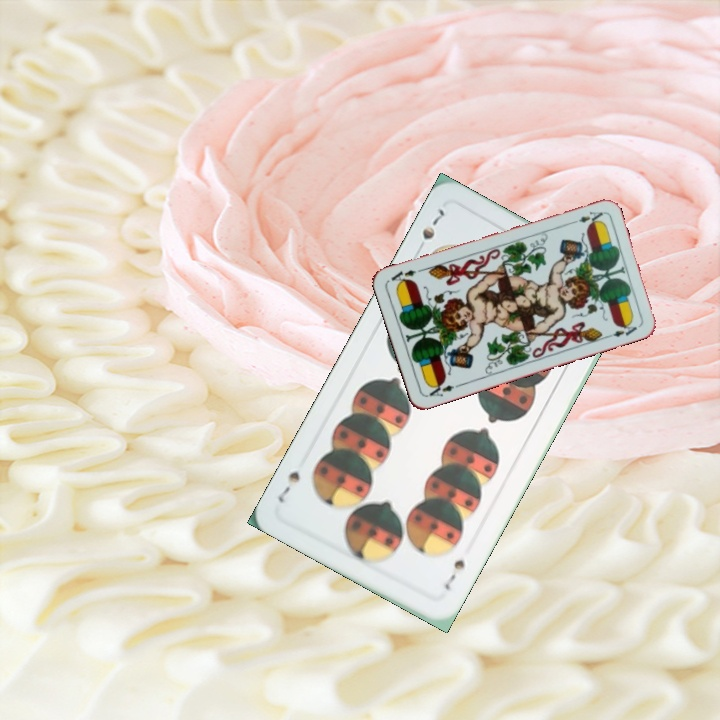EA: (423, 378, 463, 400), (566, 207, 606, 227)
S7: (412, 204, 447, 256), (440, 555, 467, 592)
